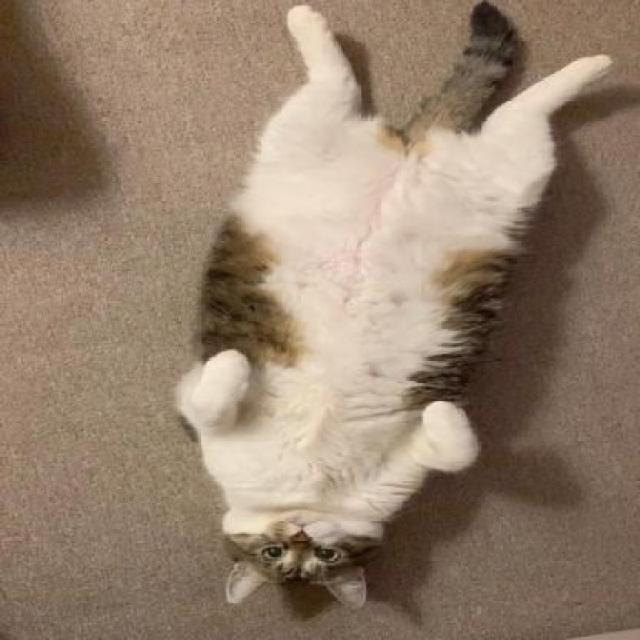cat: (140, 0, 640, 622)
